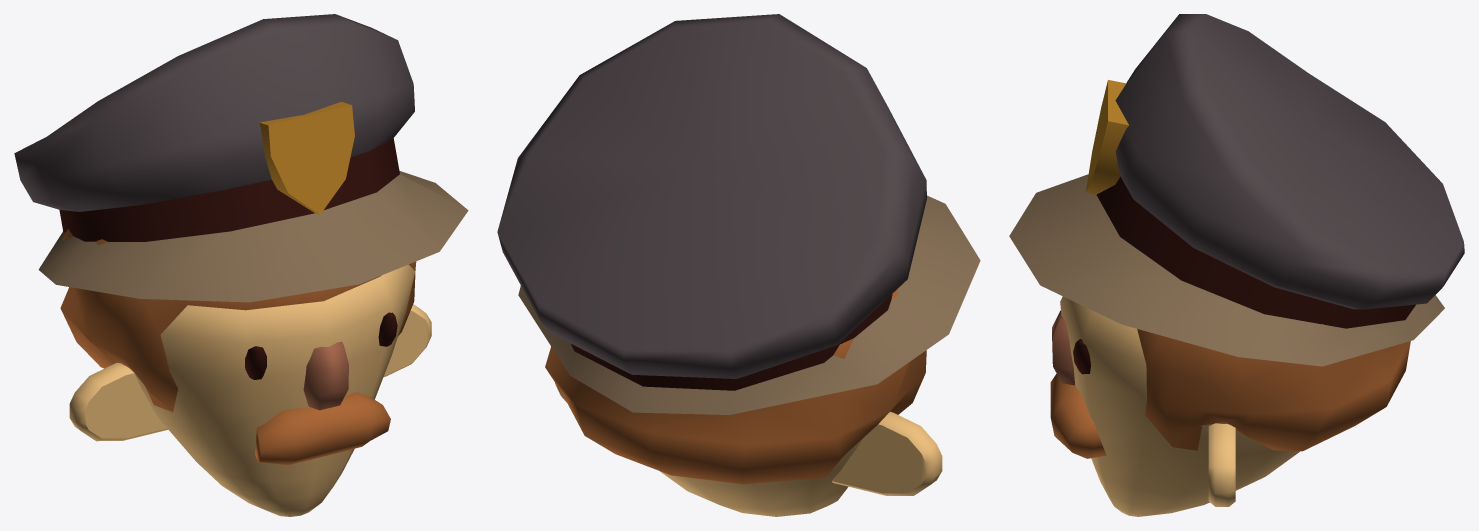
File: NPC_PoliceMan1_Triangle_Head.fbx
3 views of the same model, side by side, from view 1: azimuth 30°, elevation 25°; view 2: azimuth 150°, elevation 25°; view 3: azimuth 270°, elevation 25° (orthographic). The views are drawn at different scales.
Visible parts, largest first — view 1: PoliceOfficer_Triangle_Head; view 2: PoliceOfficer_Triangle_Head; view 3: PoliceOfficer_Triangle_Head.
Boxes of the visible parts, x1,y1,x2,y2 form: PoliceOfficer_Triangle_Head: (14, 14, 468, 516); PoliceOfficer_Triangle_Head: (497, 14, 980, 516); PoliceOfficer_Triangle_Head: (1009, 14, 1464, 516).
Size of the model in its own units: 3.19 by 3.76 by 3.23.
